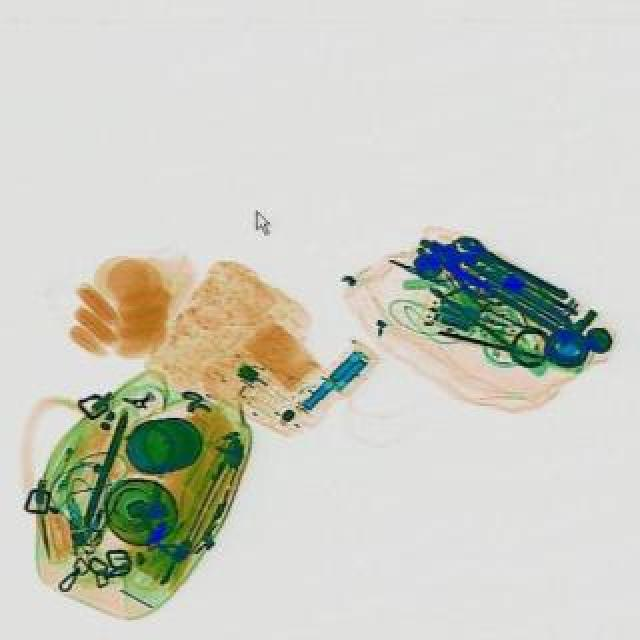scissors: (450, 230, 570, 302)
